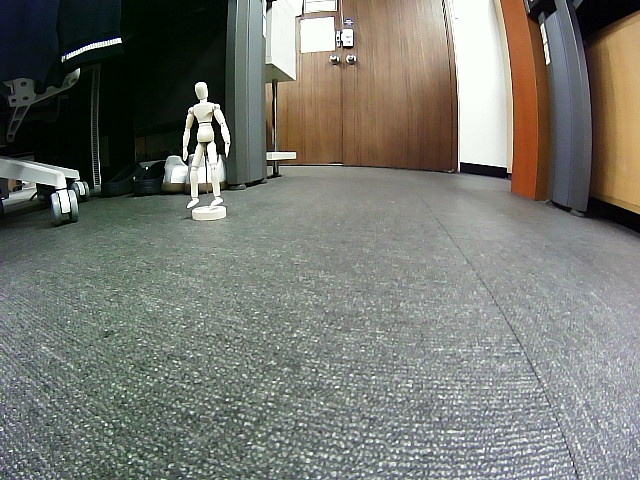person: (180, 81, 232, 210)
